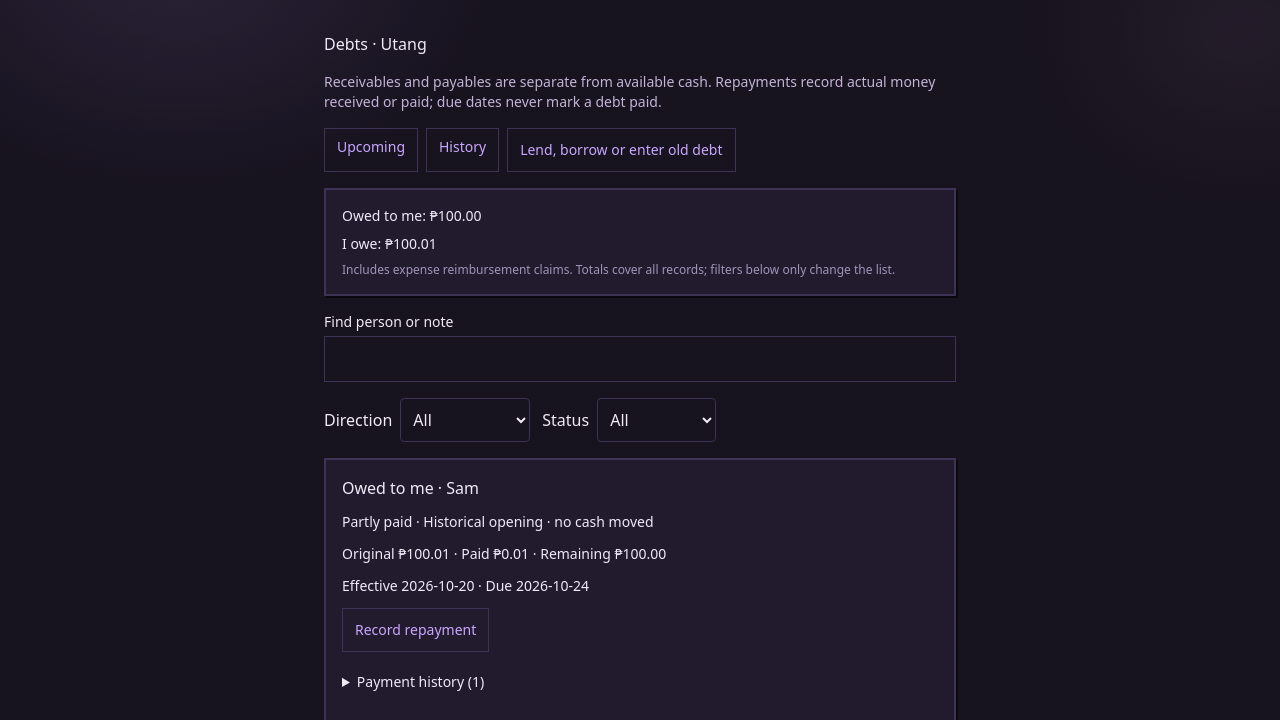
Scenario: renders separate totals, same-person debts, historical date and the exact History payment link
Expected: the text "Owed to me: ₱100.00" is shown, [342,206,482,225]
Expected: the text "I owe: ₱100.01" is shown, [342,234,437,253]
In the field labelled "Find person or note": [640, 359] box [324,336,956,382], type "missing person"
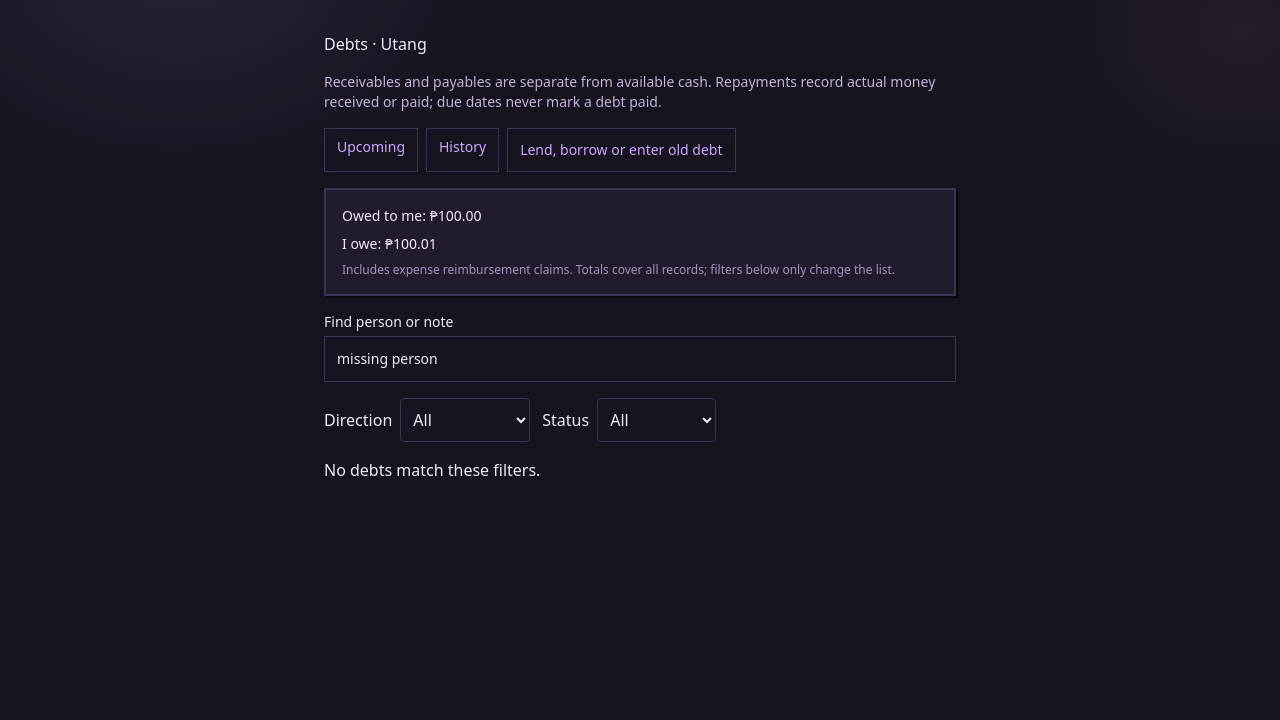
Now the text "No debts match these filters." is shown, box [324,459,540,481]
